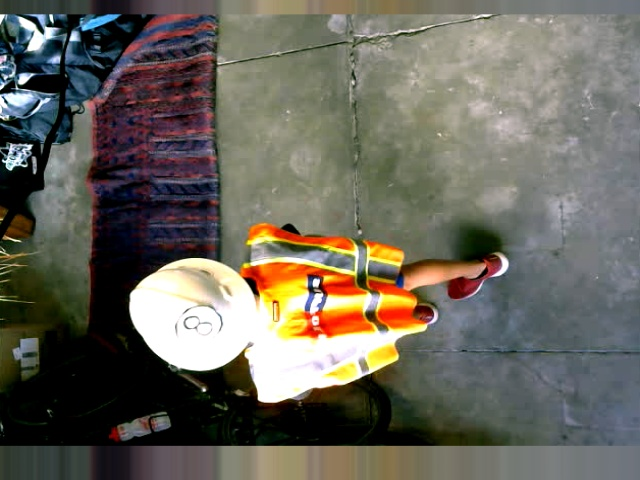eight: (173, 304, 221, 345)
